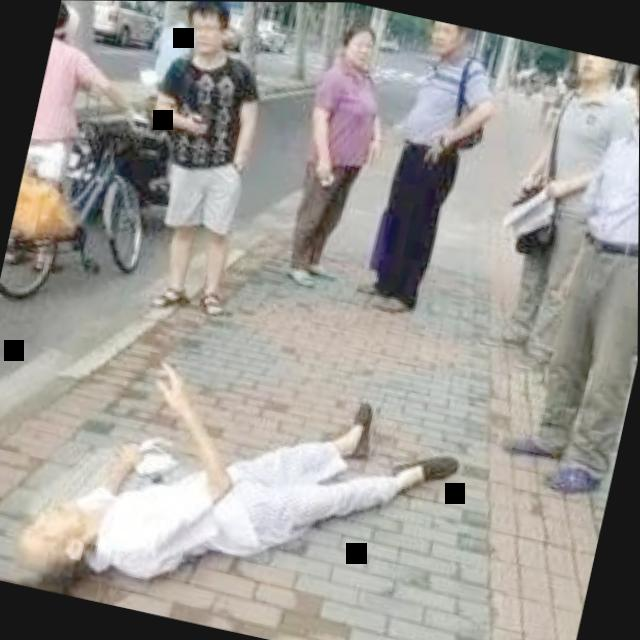Fall-Detected: (0, 308, 494, 640)
